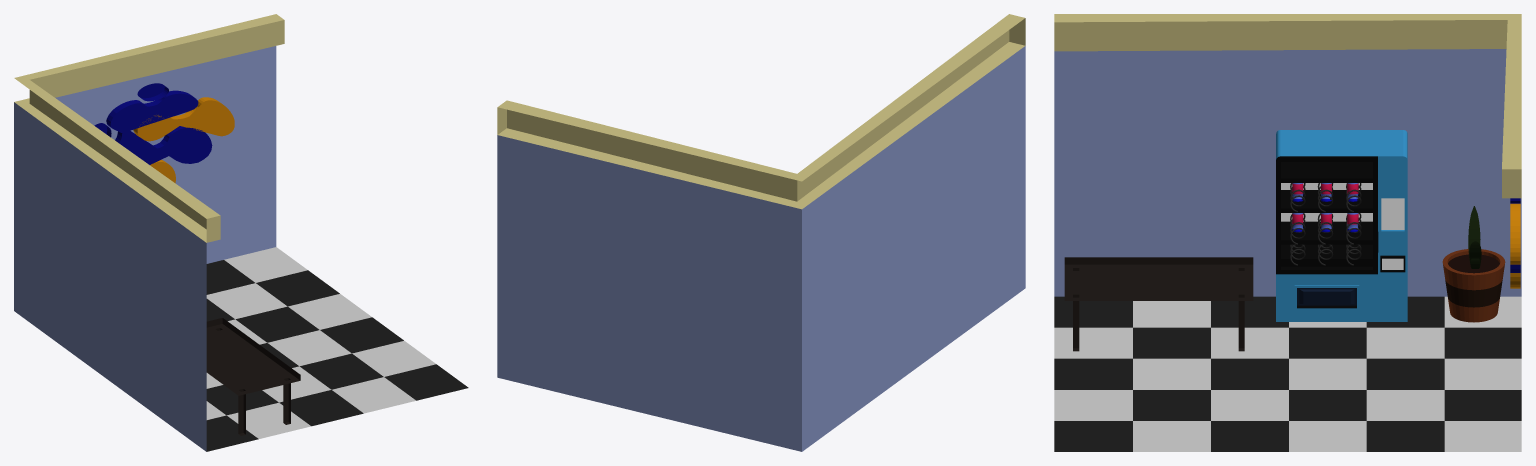
The model's file is Allanim0008.obj.
3 views of the same model, side by side, from view 1: azimuth 30°, elevation 25°; view 2: azimuth 150°, elevation 25°; view 3: azimuth 270°, elevation 25° (orthographic). The views are drawn at different scales.
Visible parts, largest first — view 1: ruangan_Cube.003, meja_Cube.004, logo.001_Circle.019, logo_Circle.006, logo.005_Circle.023; view 2: ruangan_Cube.003; view 3: ruangan_Cube.003, vending_machine_Cube.001, meja_Cube.004, pot_bunga_Cylinder, per_second\_Spiral.010, Plane.007, logo_Circle.006.
Boxes of the visible parts, <box> form: ruangan_Cube.003: <box>14,14,468,451</box>; meja_Cube.004: <box>206,318,300,435</box>; logo.001_Circle.019: <box>115,126,212,164</box>; logo_Circle.006: <box>133,97,234,141</box>; logo.005_Circle.023: <box>106,90,198,133</box>; ruangan_Cube.003: <box>497,14,1025,451</box>; ruangan_Cube.003: <box>1054,14,1521,451</box>; vending_machine_Cube.001: <box>1276,130,1407,321</box>; meja_Cube.004: <box>1064,257,1253,351</box>; pot_bunga_Cylinder: <box>1442,249,1505,322</box>; per_second\_Spiral.010: <box>1290,183,1361,265</box>; Plane.007: <box>1468,206,1481,268</box>; logo_Circle.006: <box>1510,203,1520,264</box>.
Size of the model in its own units: 11.73 by 9.95 by 14.9.
